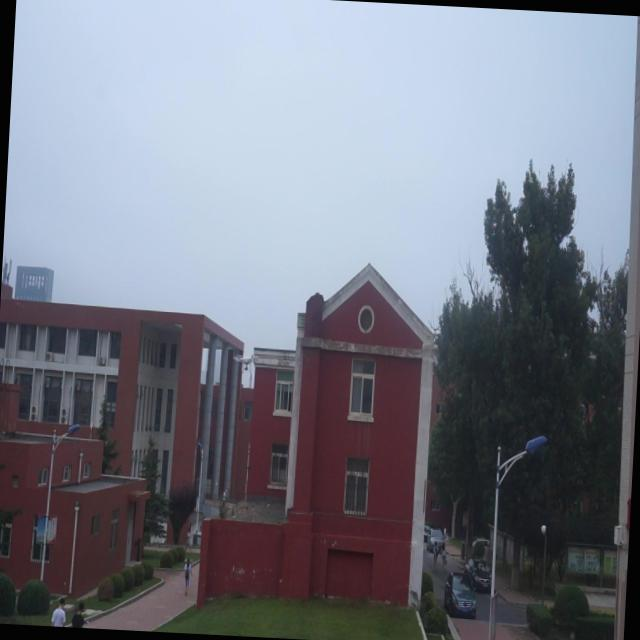drone: (230, 347, 256, 376)
